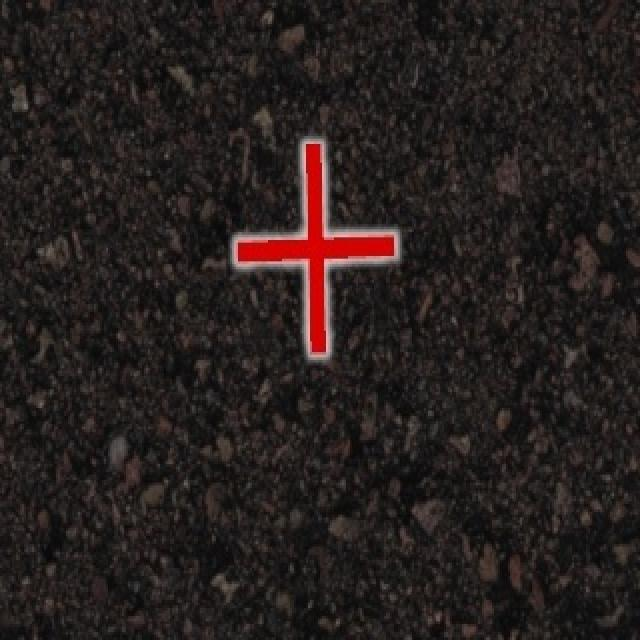x_marker: (235, 143, 395, 353)
